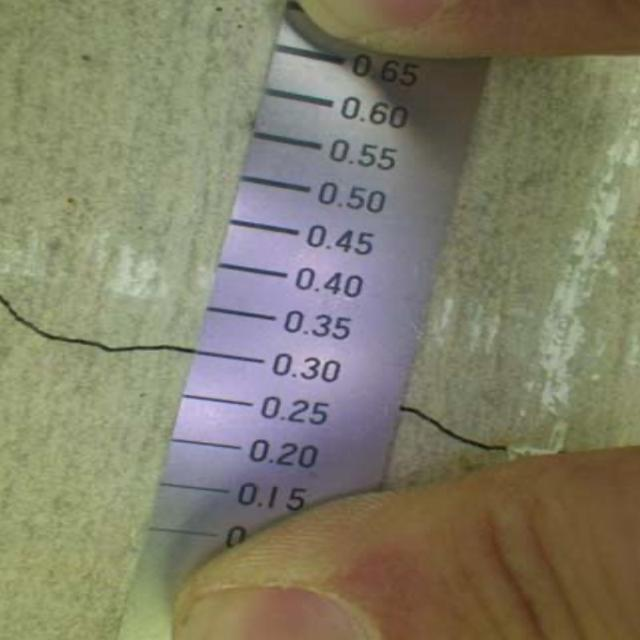crack: (2, 282, 197, 364), (401, 390, 540, 470)
